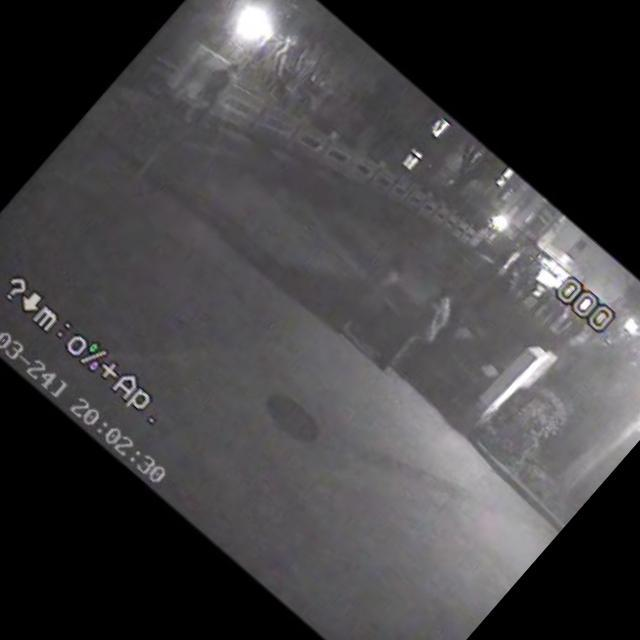person: (368, 279, 468, 386), (318, 240, 418, 345), (172, 54, 246, 132), (452, 253, 504, 310), (466, 270, 516, 323)
